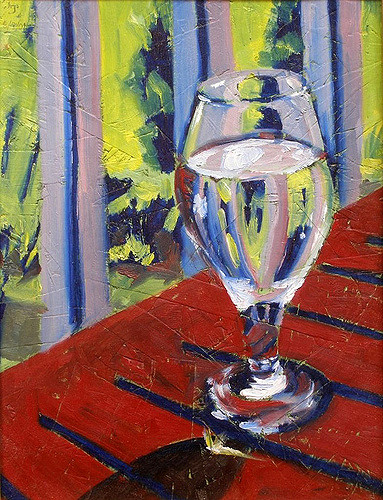glass of water: (198, 60, 321, 433)
